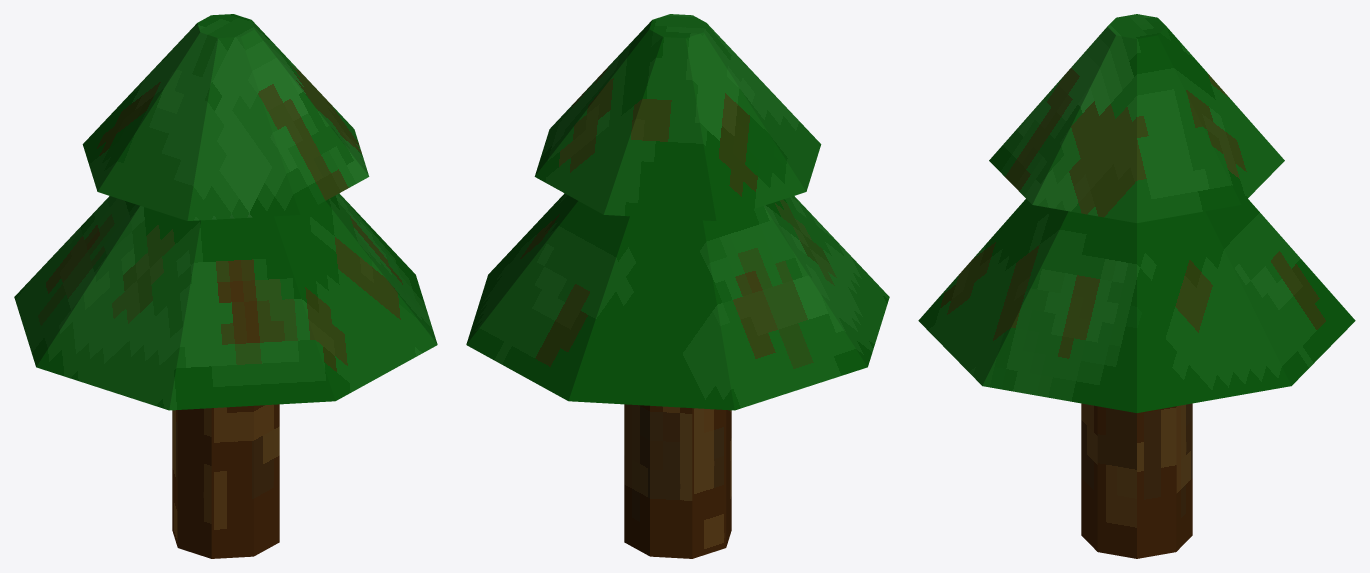
File: FirTree.glb
3 renders of one model, left to right at view 1: azimuth 30°, elevation 25°; view 2: azimuth 150°, elevation 25°; view 3: azimuth 270°, elevation 25°, orthographic.
Visible parts, largest first — view 1: Cylinder; view 2: Cylinder; view 3: Cylinder.
Part boxes in pixels (x1,y1,x2,y2): Cylinder: (14,14,437,558); Cylinder: (466,14,889,558); Cylinder: (918,14,1355,558).
Bounding box in the file's own units: 3.94 × 5.06 × 3.94.
Materials: 1 (1 with a texture image).
